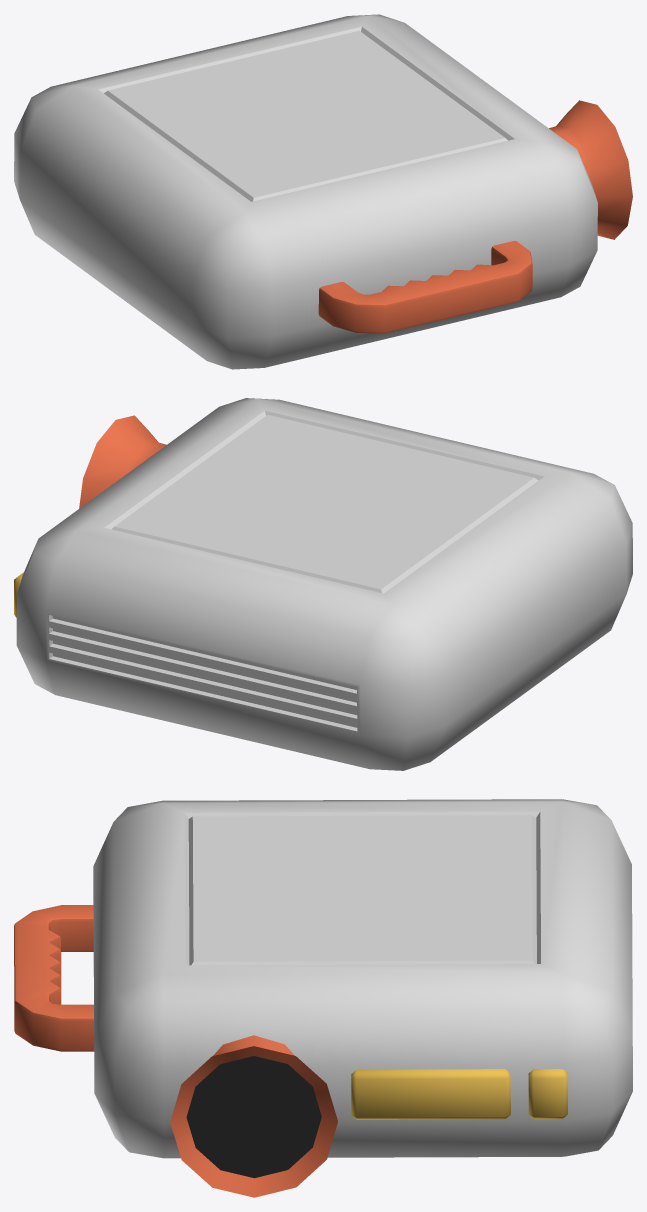
Rendered from camera.glb.
3 renders of one model, top to bottom at view 1: azimuth 30°, elevation 25°; view 2: azimuth 150°, elevation 25°; view 3: azimuth 270°, elevation 25°, orthographic. The views are drawn at different scales.
Parts seen in each view (by area): view 1: cameraMain, cameraMain.001, cameraMain.002; view 2: cameraMain, cameraMain.002; view 3: cameraMain, cameraMain.003, cameraMain.004, cameraMain.001, cameraMain.002.
Boxes of the visible parts, x1,y1,x2,y2 form: cameraMain: (14, 14, 597, 369); cameraMain.001: (318, 240, 532, 333); cameraMain.002: (549, 100, 632, 239); cameraMain: (16, 398, 632, 770); cameraMain.002: (79, 415, 166, 508); cameraMain: (93, 799, 632, 1158); cameraMain.003: (186, 1056, 321, 1178); cameraMain.004: (351, 1069, 567, 1119); cameraMain.001: (14, 905, 94, 1051); cameraMain.002: (170, 1035, 337, 1197).
Bounding box in the file's own units: 0.7791 × 0.2653 × 0.8045.
